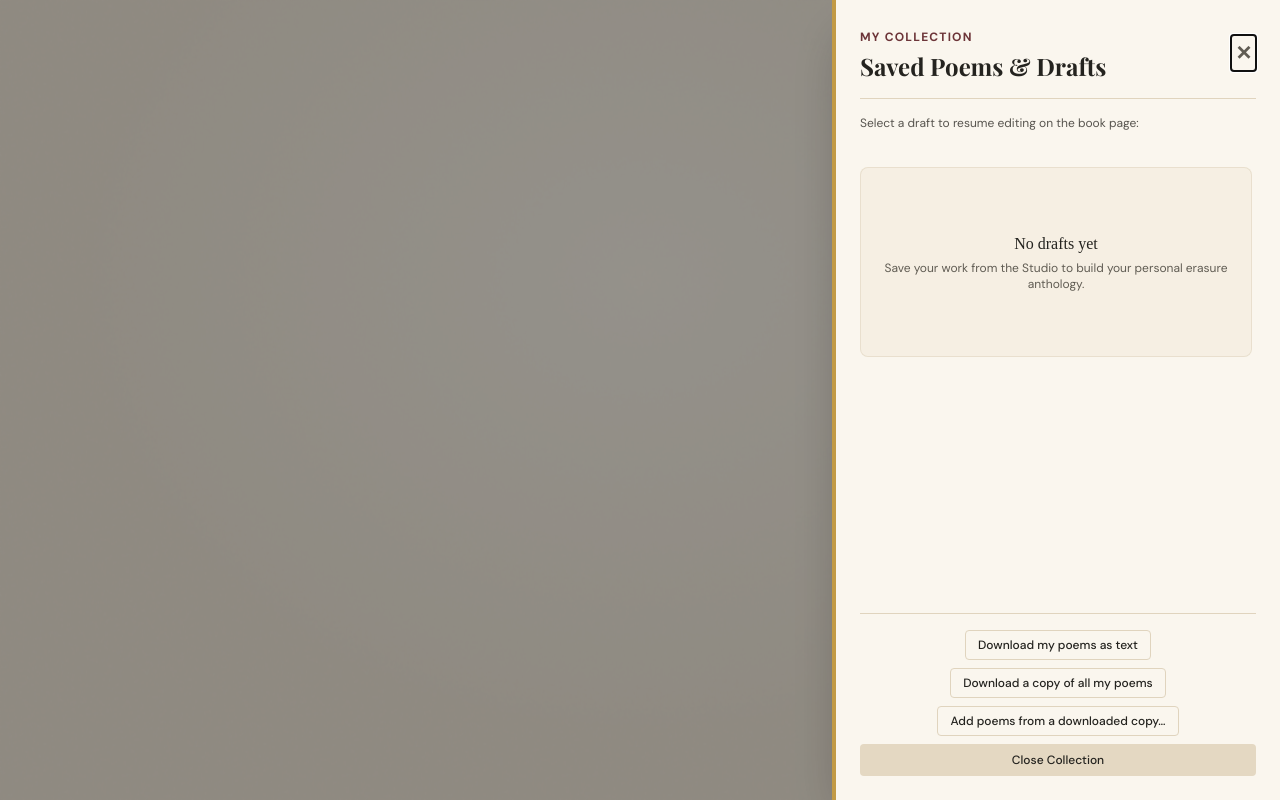
Test: downloading as text from My Collection › downloads nothing, and says so, when there are no poems
The width and height of the screenshot is (1280, 800).
Click the button "Download my poems as text": (1058, 645) [965,630,1151,660]
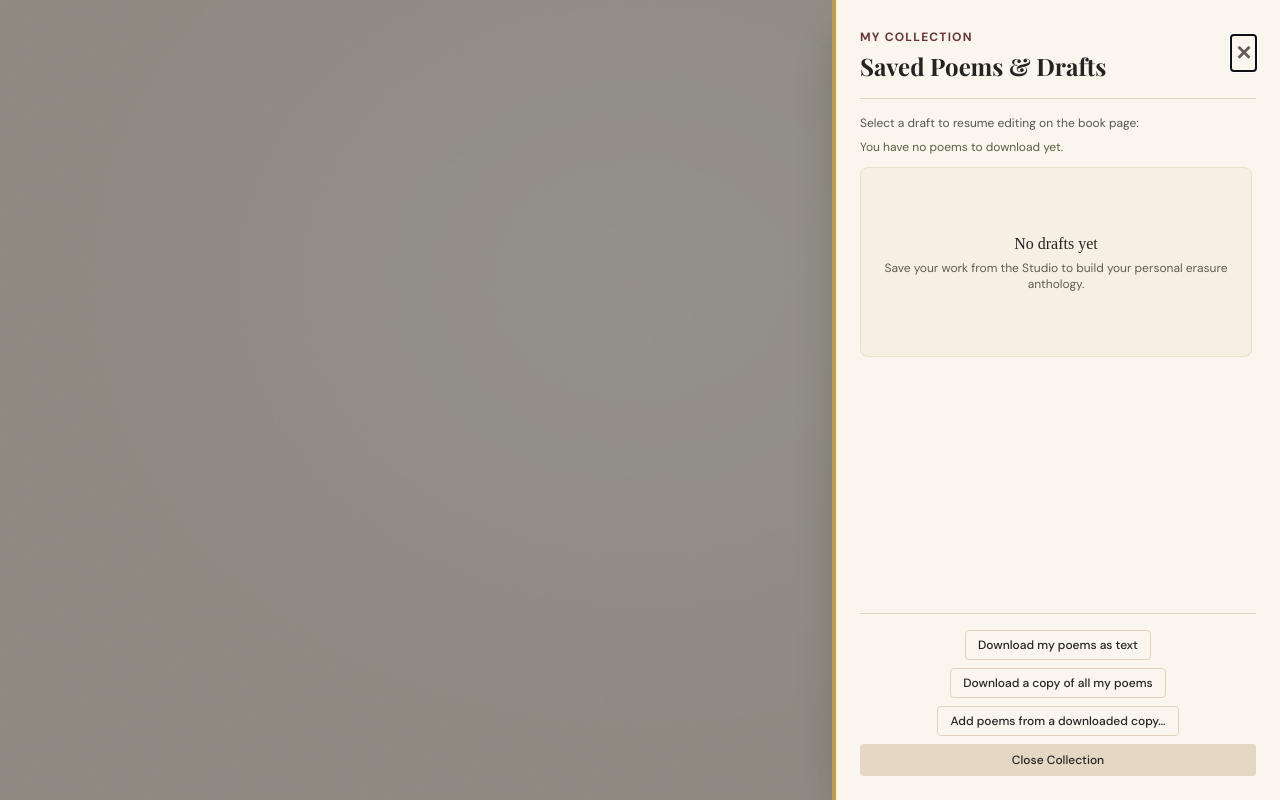
Result: the message "You have no poems to download yet." is shown at [860,139,1063,155]
